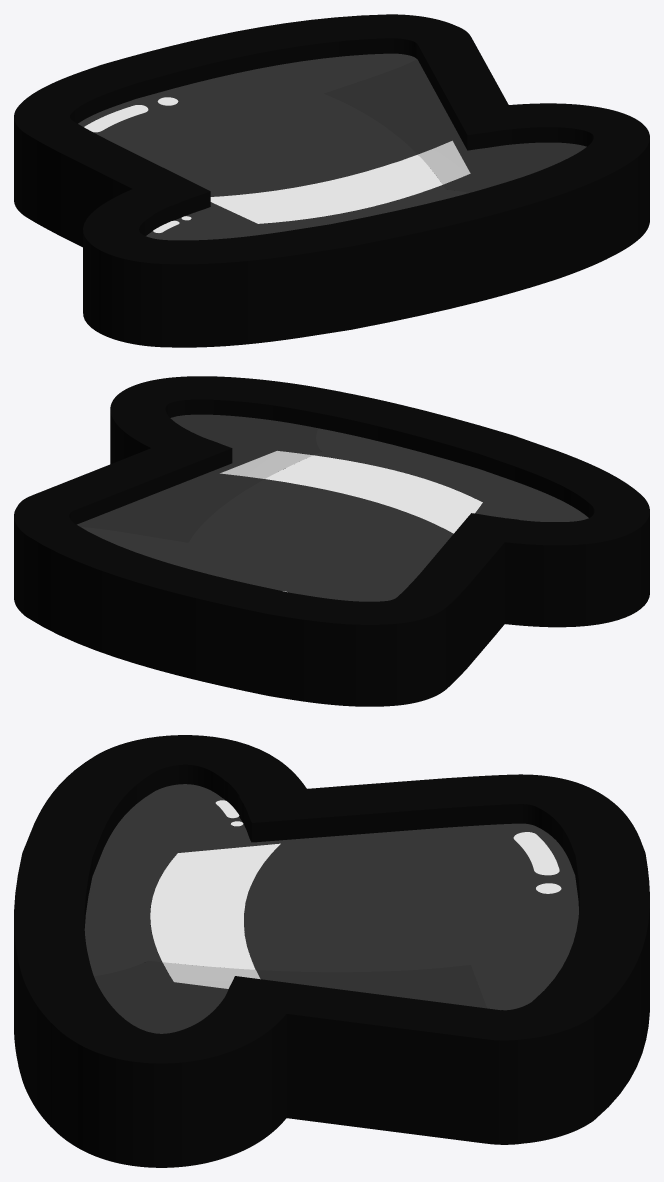
File: Cartola.glb
3 renders of one model, top to bottom at view 1: azimuth 30°, elevation 25°; view 2: azimuth 150°, elevation 25°; view 3: azimuth 270°, elevation 25°, orthographic. The views are drawn at different scales.
Parts seen in each view (by area): view 1: Curve.013; view 2: Curve.013; view 3: Curve.013.
Boxes of the visible parts, x1,y1,x2,y2 form: Curve.013: (14, 14, 649, 347); Curve.013: (14, 376, 649, 706); Curve.013: (14, 735, 649, 1167).
Bounding box in the file's own units: 1.96 × 0.2903 × 1.6.
Materials: 1 (1 with a texture image).
